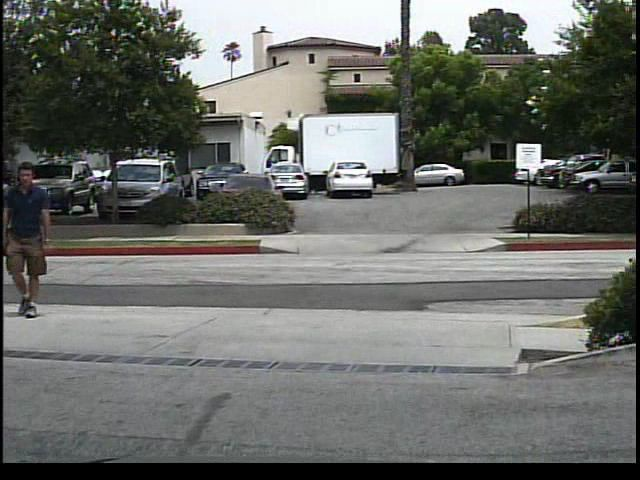person: (6, 161, 57, 320)
